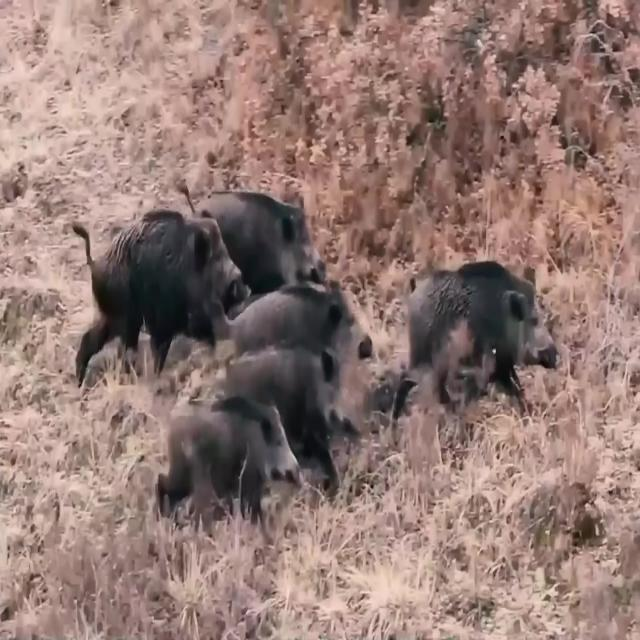pig: (67, 169, 239, 414), (391, 260, 568, 396), (230, 260, 388, 402), (174, 374, 304, 538), (192, 143, 332, 295)
